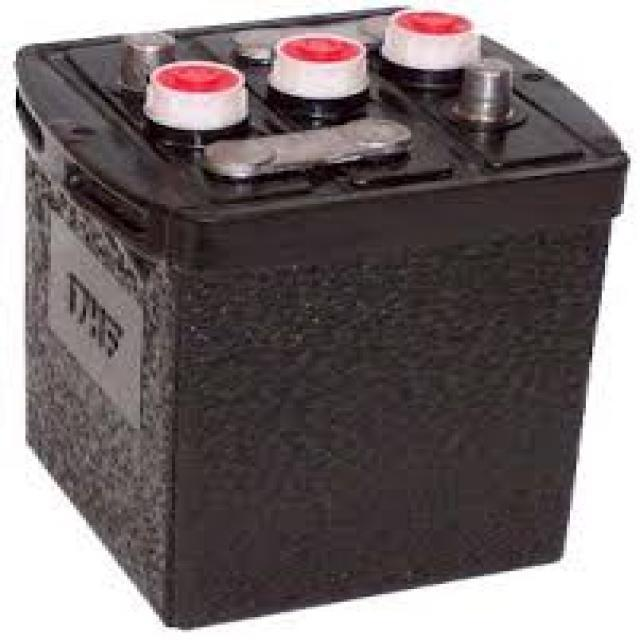battery: (12, 6, 626, 630)
